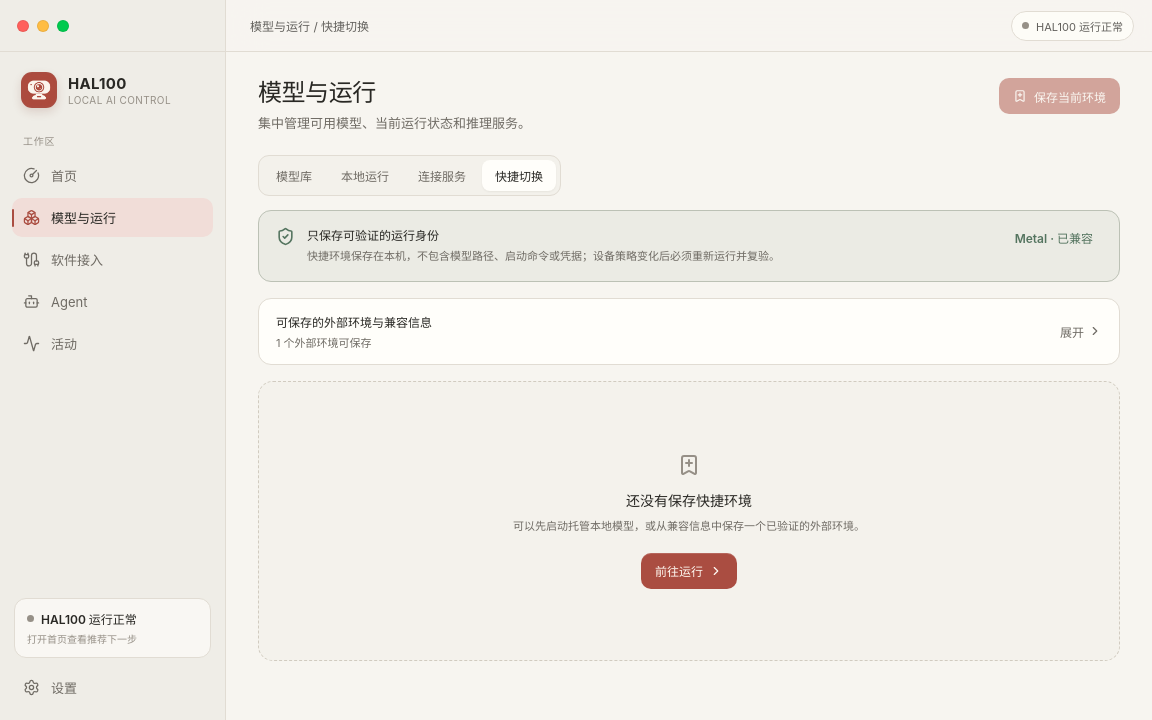
Test: HAL100 application shell › nests runtime profiles under the model and runtime workspace
Expected: the heading "模型与运行" is shown, [258,78,376,107]
Expected: the button "保存当前环境" is disabled, [999,78,1120,114]
Step 1. Click the text "可保存的外部环境与兼容信息" → (354, 321), box [276,313,432,330]
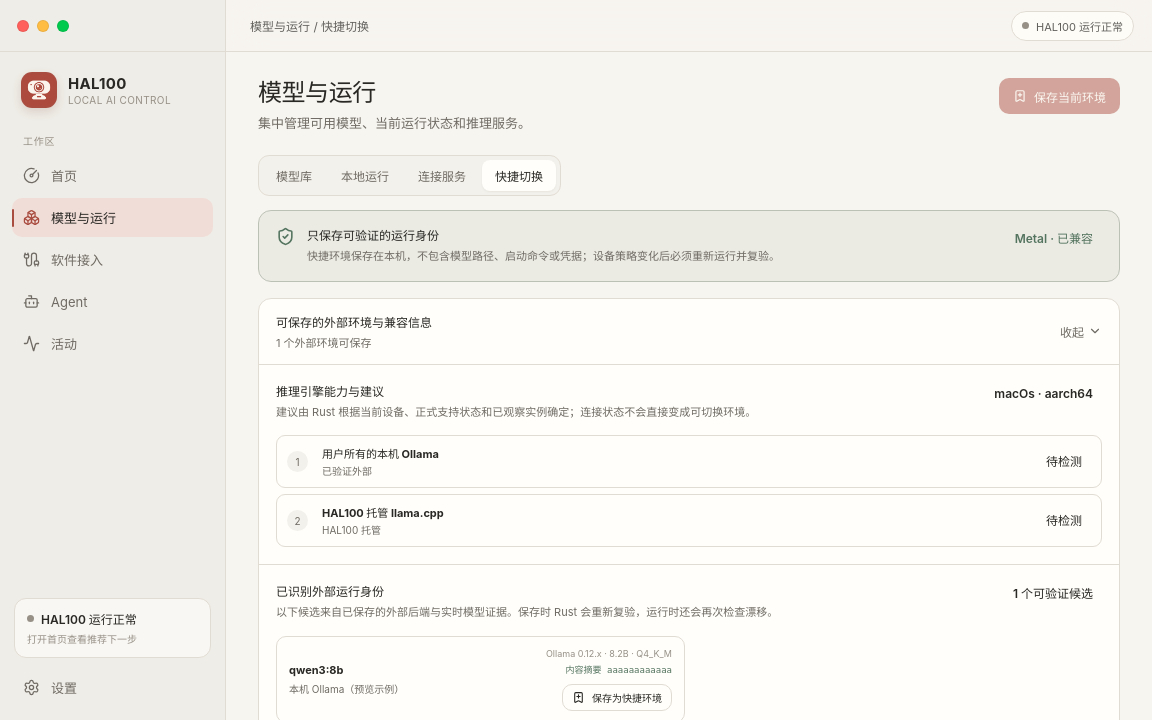
Now the text "已识别外部运行身份" is shown, box [276,584,384,599]
Now the text "1 个可验证候选" is shown, box [1013,586,1093,601]
Step 2. Click the button "保存为快捷环境" → (617, 698), box [562,684,672,711]
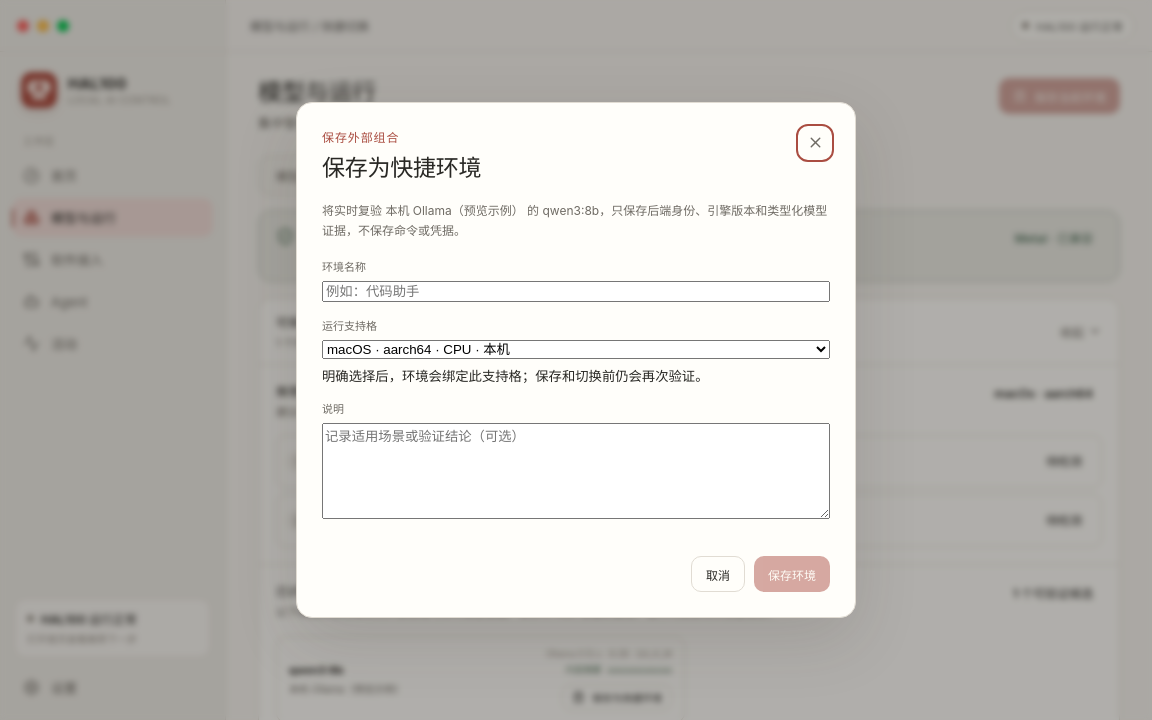
Now the dialog "保存为快捷环境" is shown, box [296,102,856,618]
Now the text "只保存后端身份、引擎版本和类型化模型证据" is shown, box [322,203,827,238]
